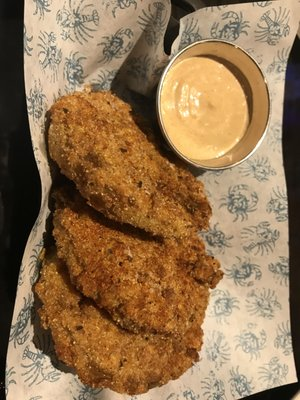sushi: (156, 40, 271, 170)
